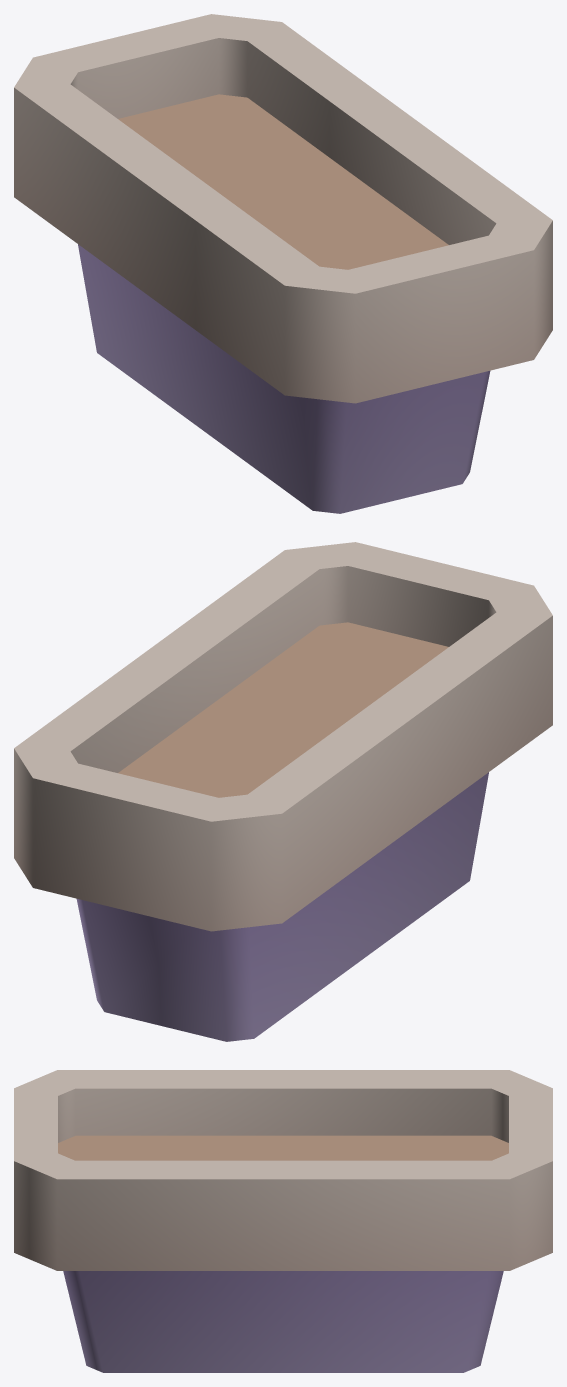
Rendered from planter-small.glb.
3 views of the same model, one above another, from view 1: azimuth 30°, elevation 25°; view 2: azimuth 150°, elevation 25°; view 3: azimuth 270°, elevation 25° (orthographic). The views are drawn at different scales.
Parts seen in each view (by area): view 1: planter-small; view 2: planter-small; view 3: planter-small.
Part boxes in pixels (<box>): planter-small: <box>14,14,552,513</box>; planter-small: <box>14,542,552,1041</box>; planter-small: <box>14,1070,552,1372</box>.
Size of the model in its own units: 0.199 by 0.1834 by 0.4146.
